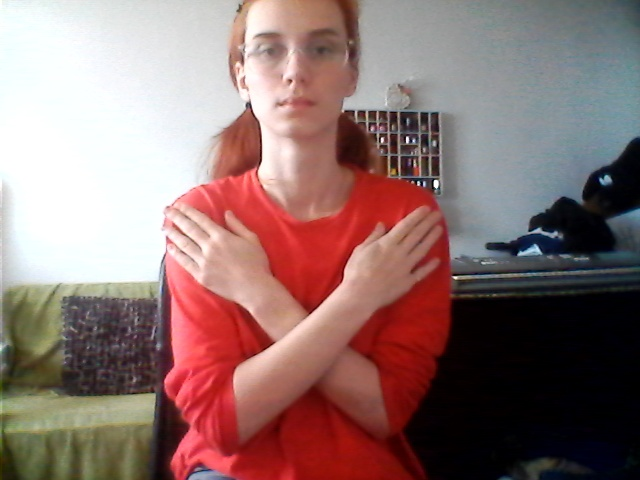z: (156, 197, 440, 447)
